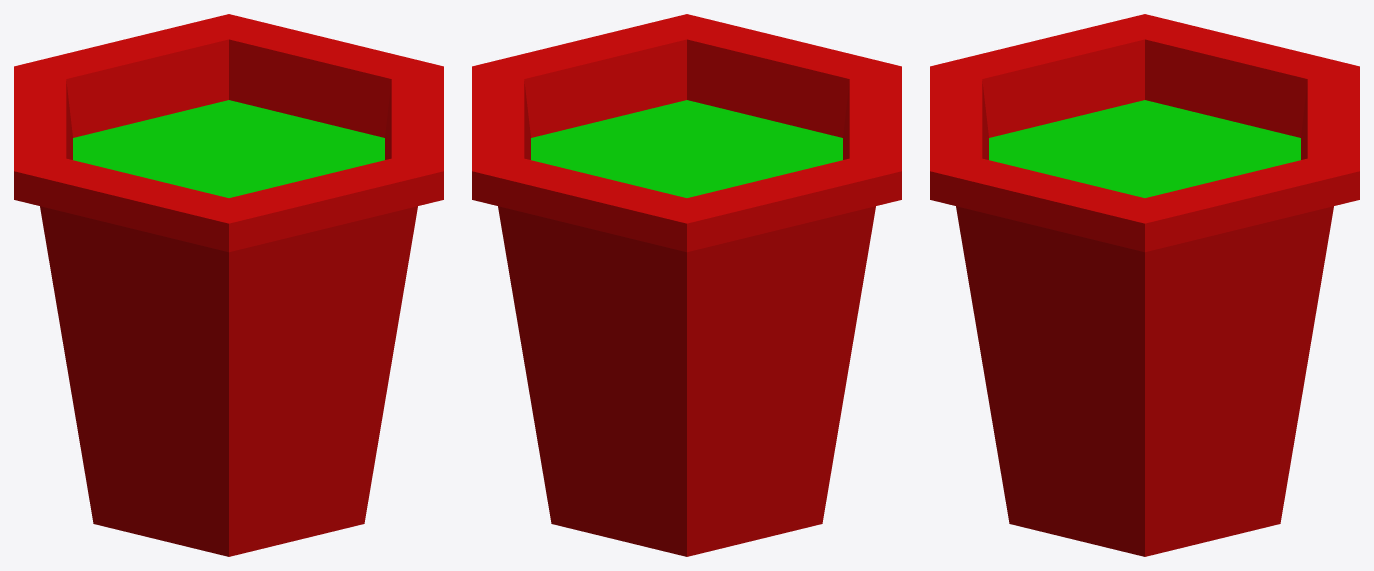
The model's file is Abbie - MushroomPot.fbx.
3 views of the same model, side by side, from view 1: azimuth 30°, elevation 25°; view 2: azimuth 150°, elevation 25°; view 3: azimuth 270°, elevation 25° (orthographic).
Visible parts, largest first — view 1: flowerPot; view 2: flowerPot; view 3: flowerPot.
Boxes of the visible parts, box(x1,y1,x2,y2) form: flowerPot: box(14, 14, 443, 556); flowerPot: box(472, 14, 901, 556); flowerPot: box(930, 14, 1359, 556).
Size of the model in its own units: 15.71 by 13 by 13.61.
